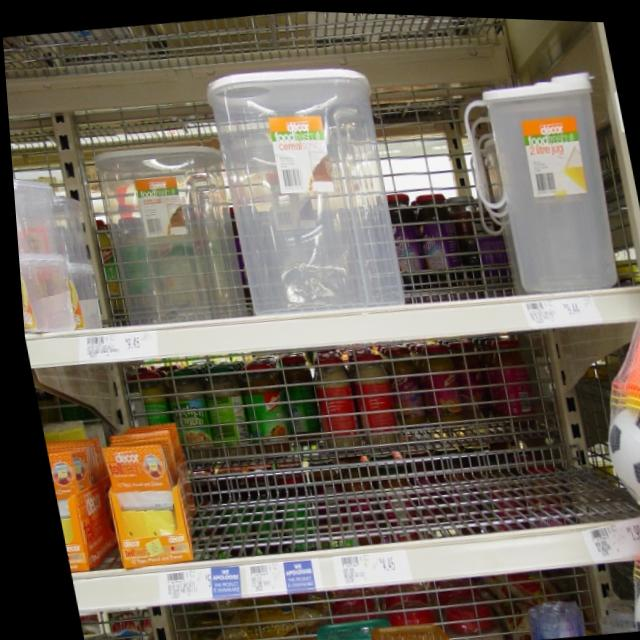q299: (556, 281, 640, 521), (602, 502, 640, 628)
